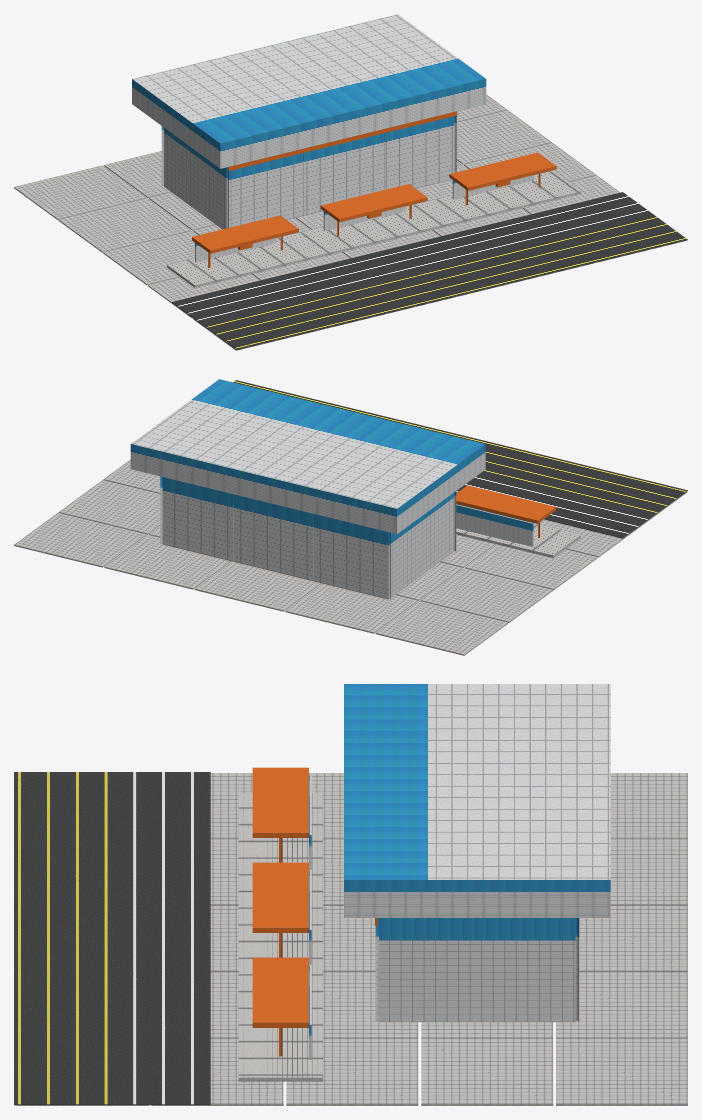
3 renders of one model, top to bottom at view 1: azimuth 30°, elevation 25°; view 2: azimuth 150°, elevation 25°; view 3: azimuth 270°, elevation 25°, orthographic. The views are drawn at different scales.
Visible parts, largest first — view 1: 28185_B18_Technopark_Transit_Center; view 2: 28185_B18_Technopark_Transit_Center; view 3: 28185_B18_Technopark_Transit_Center.
Part boxes in pixels (bbox=[...]): 28185_B18_Technopark_Transit_Center: bbox=[14, 14, 687, 350]; 28185_B18_Technopark_Transit_Center: bbox=[14, 379, 687, 655]; 28185_B18_Technopark_Transit_Center: bbox=[14, 684, 687, 1105].
Bounding box in the file's own units: 56 × 12.5 × 48.
1 material, 1 textured.
